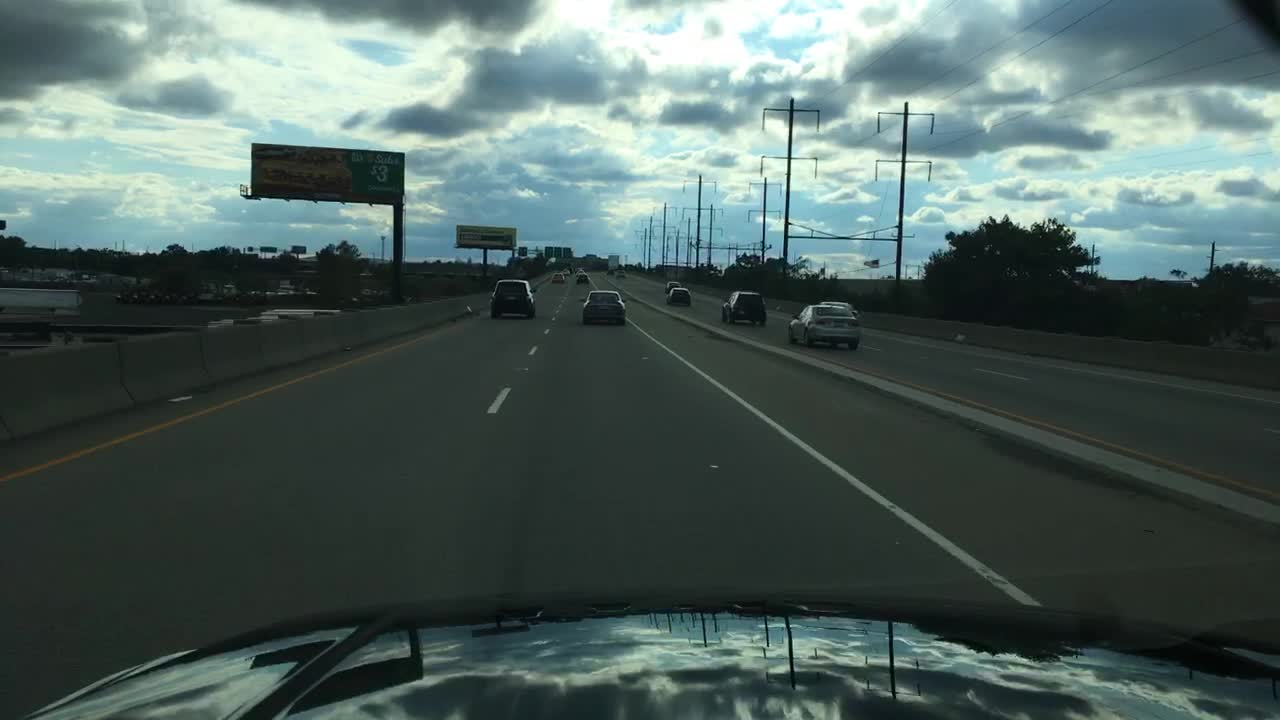car: (786, 304, 860, 347), (487, 277, 538, 320), (577, 288, 629, 327), (719, 288, 768, 326), (816, 299, 860, 331), (665, 287, 692, 307), (661, 278, 683, 293), (611, 266, 627, 282), (550, 270, 565, 287), (577, 272, 590, 285)
traffic sign: (516, 245, 531, 260), (550, 245, 563, 258), (541, 246, 553, 260), (560, 245, 572, 258)
